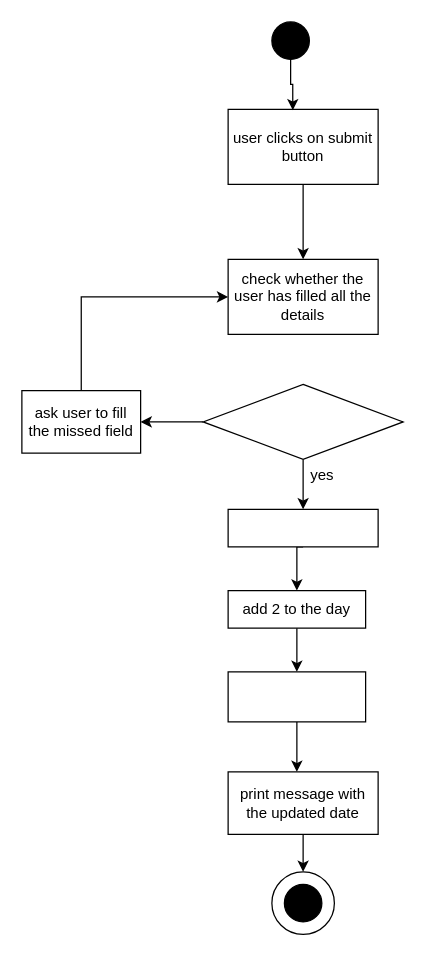
Image size: 425x956. Some labels were removed from this diagram. Each missing label, with the centre of its shape:
add 1 to the month: pixel 296 696
all input fields are not null: pixel 302 421
get date: pixel 302 527
